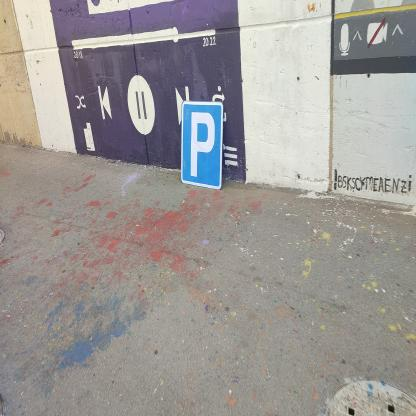Parking-Sign: (182, 101, 225, 191)
